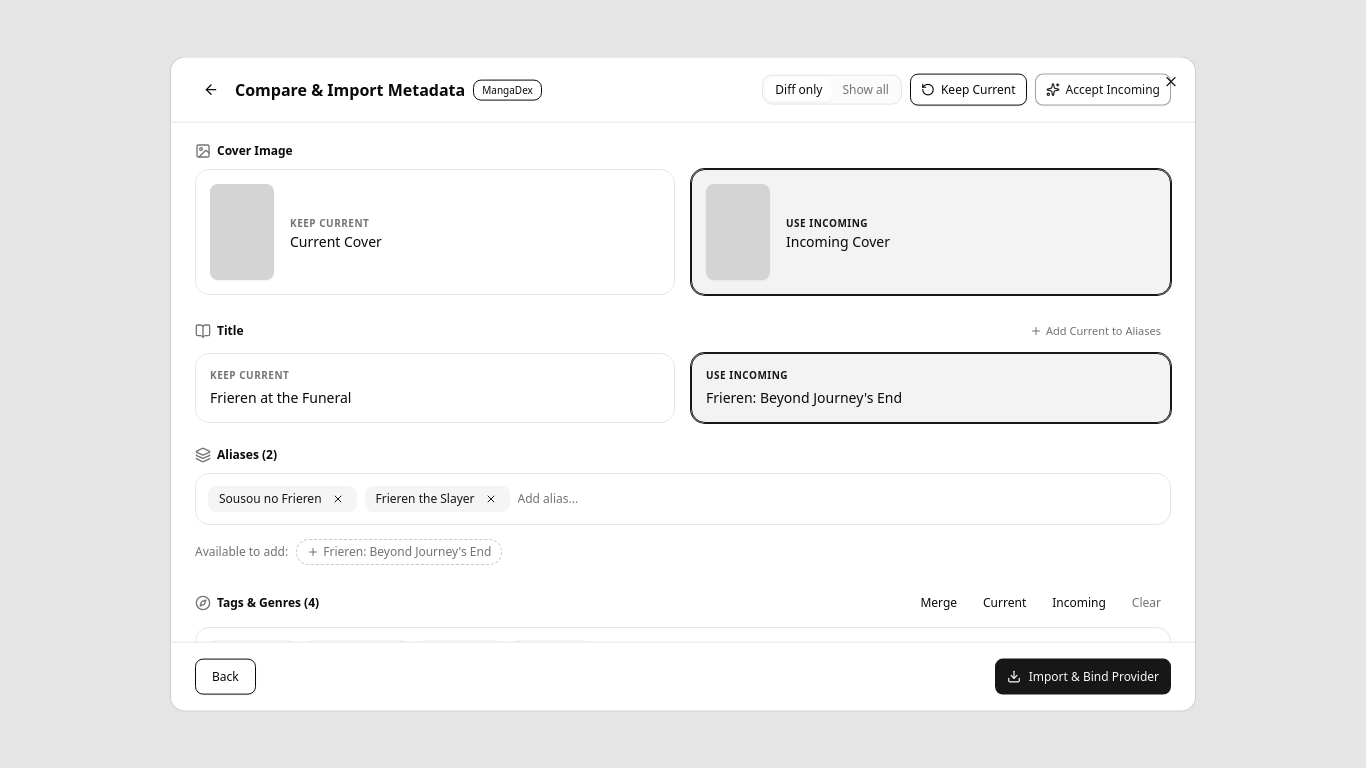
ImportMetadataDialog › supports interactive alias pill removal and click-to-re-add
Expected: the text "Aliases (2)" is shown, [195,446,277,462]
Dismiss "Sousou no Frieren"
Click the button titled "Remove \"Sousou no Frieren\"" at (338, 498), box [330,490,346,506]
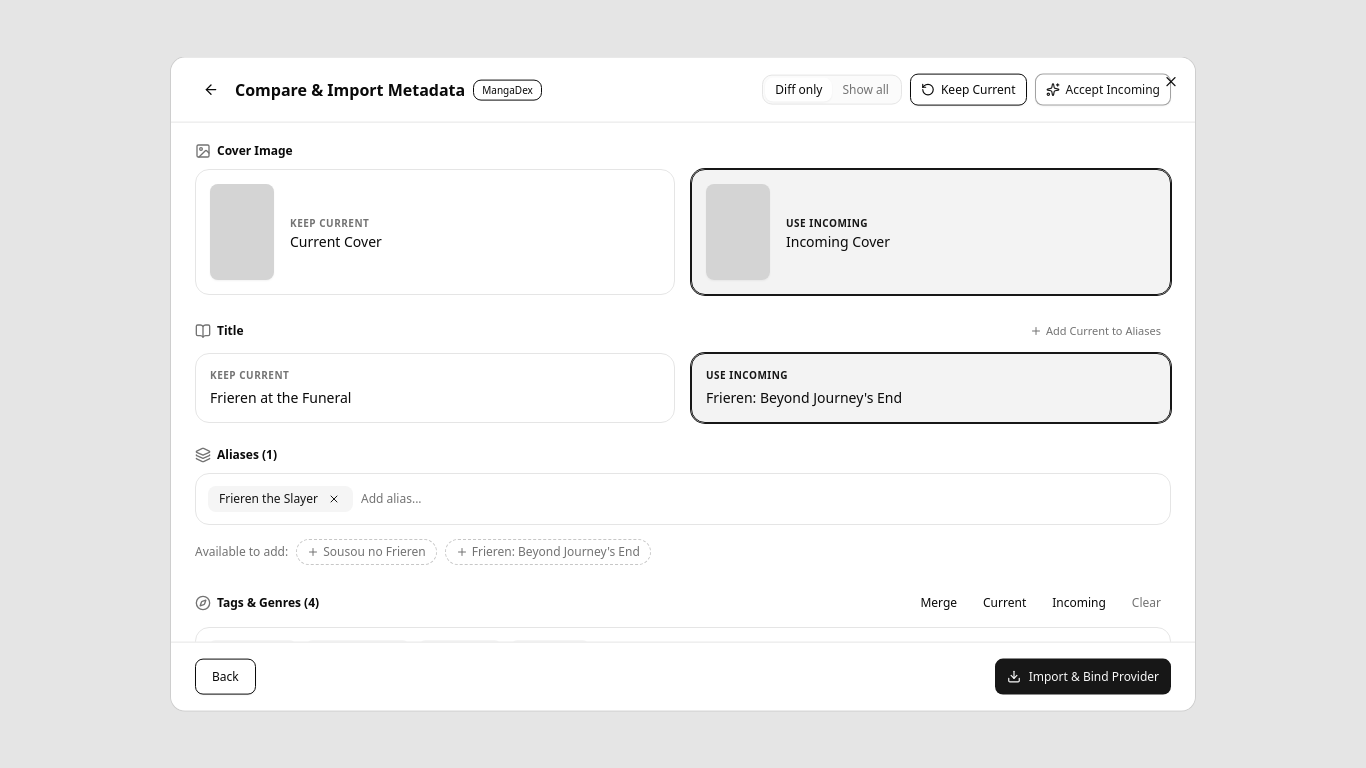
Click available chip to re-add
Click the button "Sousou no Frieren" at (366, 551), box [296,538,437,564]
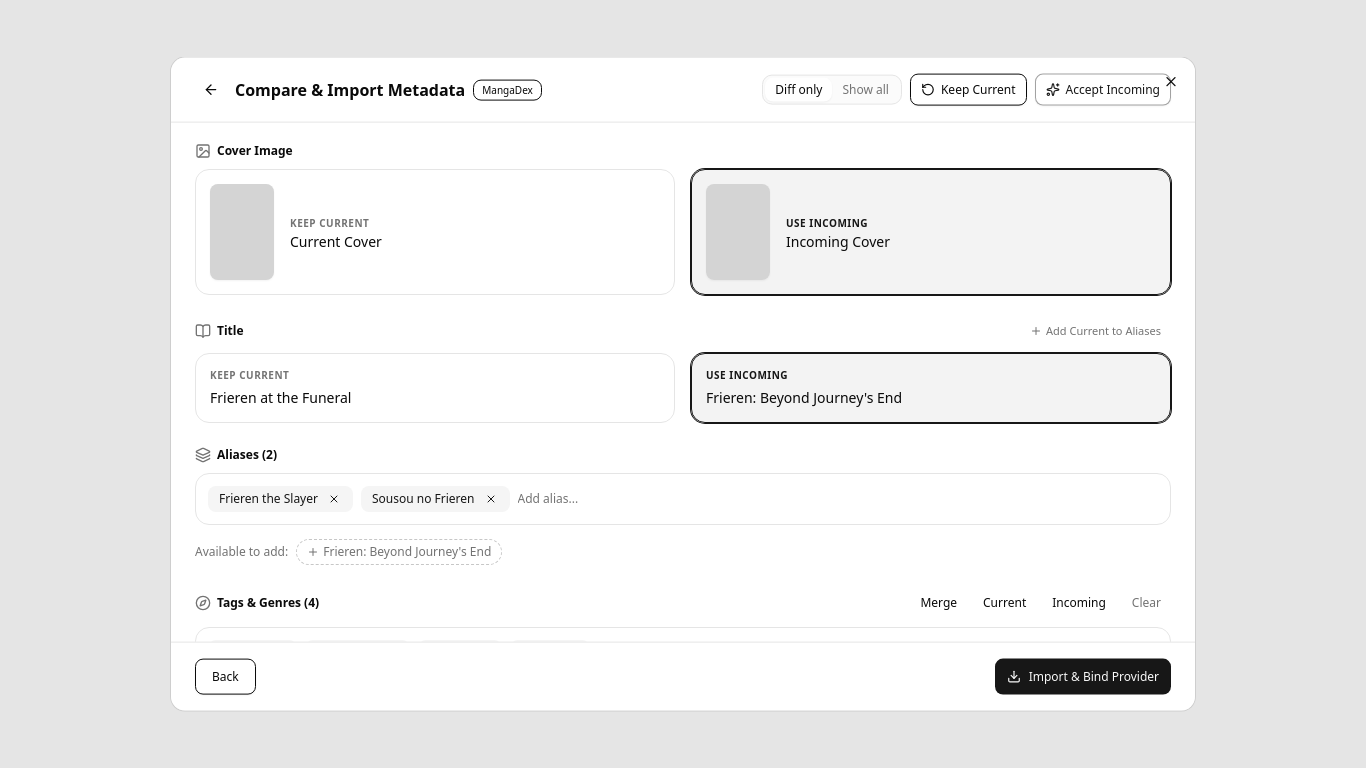
Now the button titled "Remove \"Sousou no Frieren\"" is shown, box [482,490,498,506]
